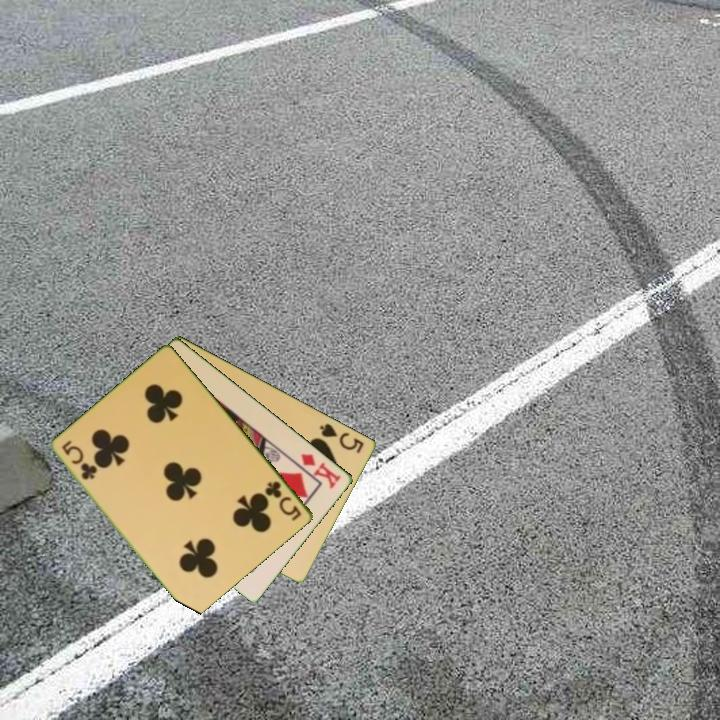5c: (261, 477, 305, 524), (58, 437, 100, 483)
5s: (316, 420, 367, 456)
Kd: (298, 450, 344, 491)
